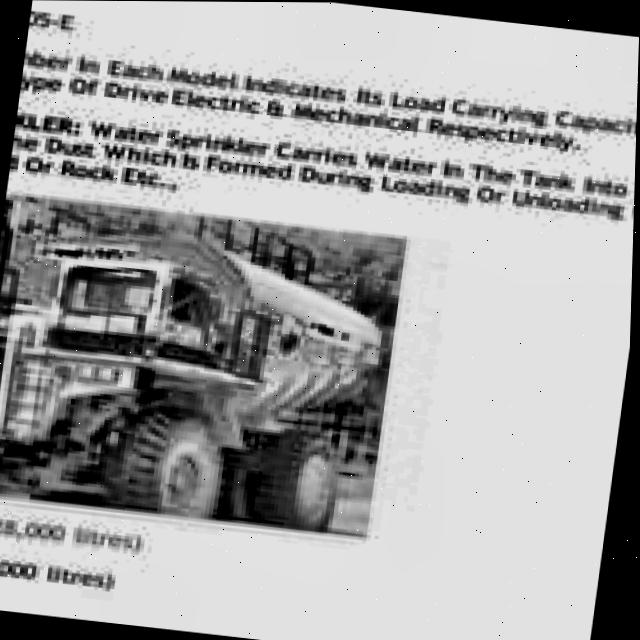dump_truck: (0, 208, 406, 534)
